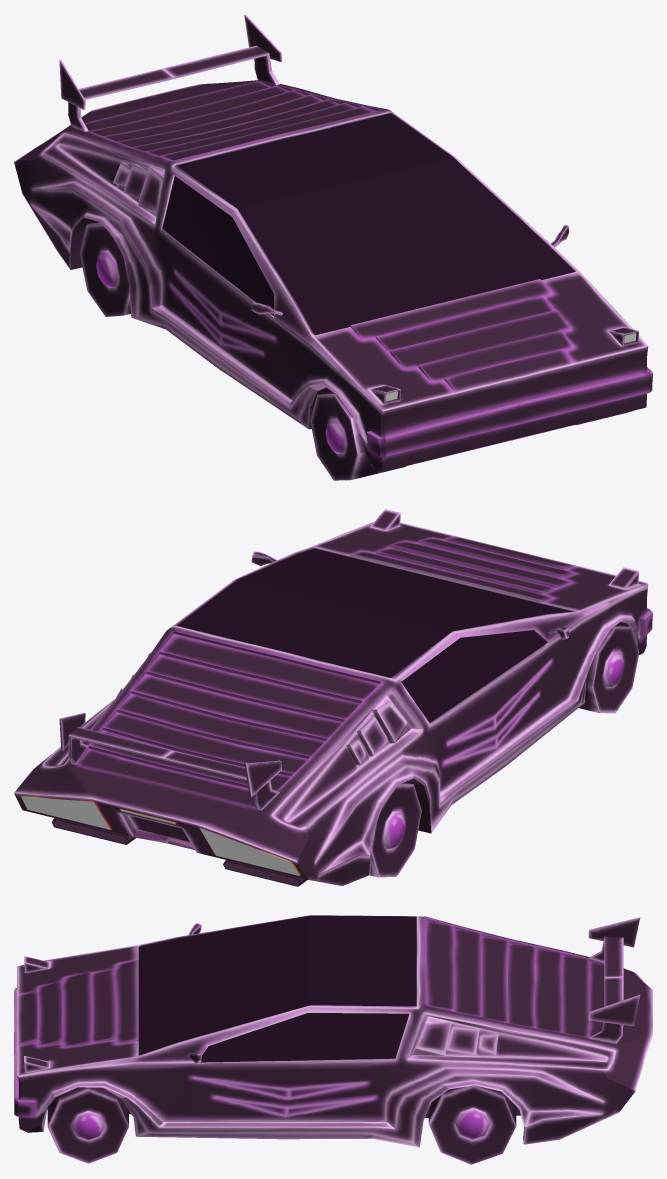
File: Coche final Alvaro Segorbe3.fbx
3 views of the same model, one above another, from view 1: azimuth 30°, elevation 25°; view 2: azimuth 150°, elevation 25°; view 3: azimuth 270°, elevation 25° (orthographic). The views are drawn at different scales.
Parts seen in each view (by area): view 1: Plane, Circle, Circle.001; view 2: Plane, Circle, Circle.001; view 3: Plane, Circle.001, Circle.
Part boxes in pixels (bbox=[...]): Plane: bbox=[14, 14, 652, 472]; Circle: bbox=[310, 391, 632, 480]; Circle.001: bbox=[79, 221, 130, 316]; Plane: bbox=[14, 509, 652, 886]; Circle: bbox=[579, 624, 639, 713]; Circle.001: bbox=[370, 782, 421, 877]; Plane: bbox=[14, 915, 652, 1147]; Circle.001: bbox=[428, 1085, 516, 1164]; Circle: bbox=[47, 1087, 128, 1163].
Bounding box in the file's own units: 1.99 × 1.04 × 4.04.
Materials: 7 (2 with a texture image).
